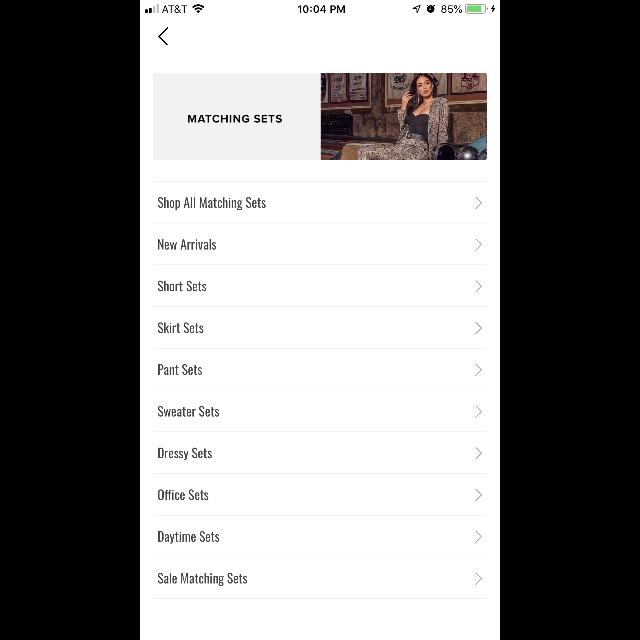icon: (158, 27, 168, 45), (476, 573, 482, 585), (476, 531, 482, 543), (476, 489, 482, 501), (476, 447, 482, 459), (476, 406, 482, 418), (476, 364, 482, 376), (476, 322, 482, 334), (476, 281, 482, 293), (476, 239, 482, 251), (476, 197, 482, 209)
image: (321, 74, 487, 160)
text: (158, 198, 266, 210), (158, 572, 248, 586), (158, 530, 220, 544), (188, 115, 282, 123), (158, 238, 216, 250), (158, 448, 212, 460), (158, 406, 220, 416), (158, 280, 206, 292), (158, 364, 202, 376), (158, 322, 204, 333), (158, 490, 208, 500)
uppertaskbar: (140, 0, 500, 14)
